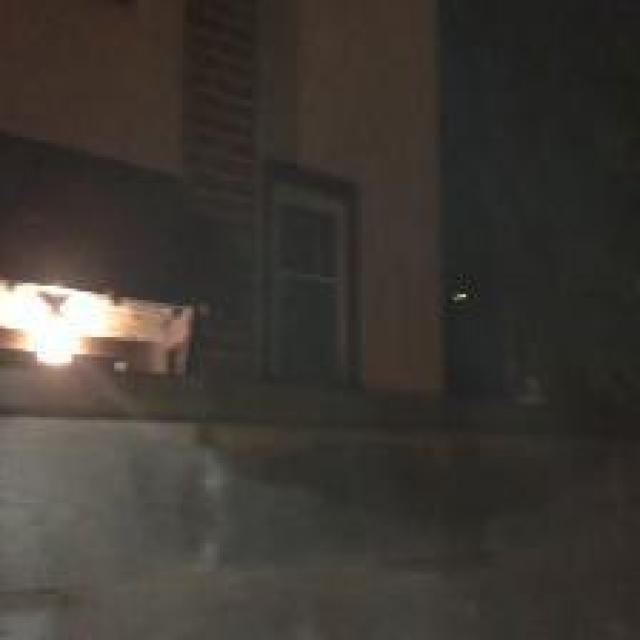other: (0, 271, 131, 388)
